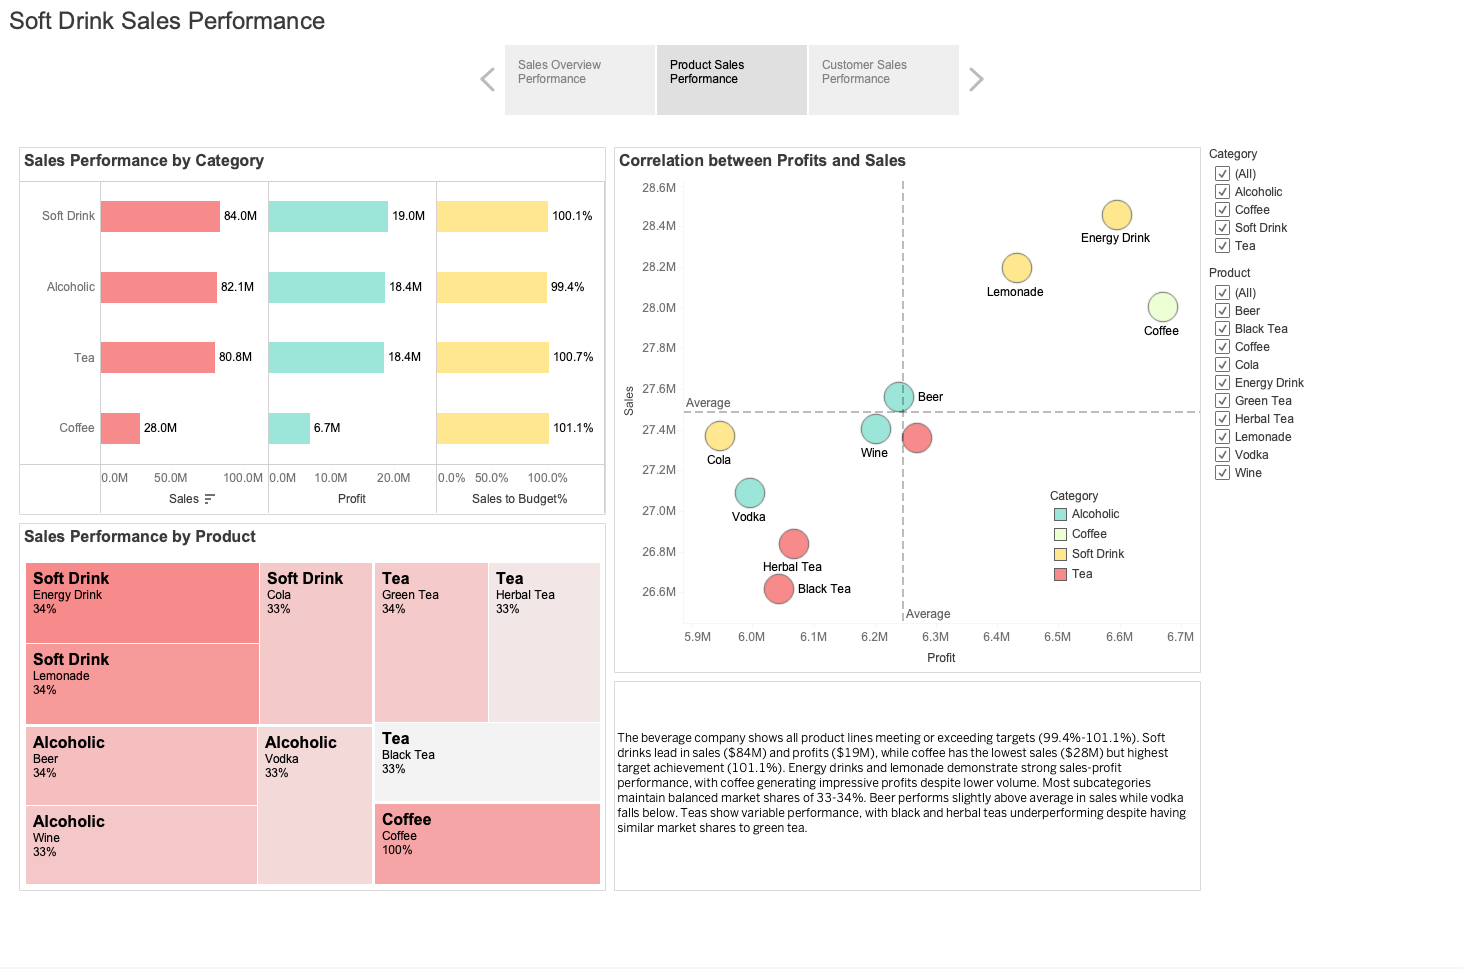

The dashboard page shown, as its layout file describes it:
{"tool":"tableau","page":{"name":"Product Performance","canvas":[1366,768],"ordinal":1},"visuals":[{"type":"worksheet","title":"Sales Performance by Category ","mark":"Automatic","rows":["Category"],"cols":["Sales","Profit","Calculation_711287330117402624"],"box":[8,8,595,376]},{"type":"worksheet","title":"Correlation between Profits and Sales","mark":"Circle","rows":["Sales"],"cols":["Profit"],"box":[603,8,595,534]},{"type":"filter","title":"Sales Performance by Category ","param":"[federated.1dfvxe61fv06j51fise5x0s4x30e].[none:Category:nk]","box":[1198,8,160,171]},{"type":"filter","title":"Sales Performance by Product ","param":"[federated.1dfvxe61fv06j51fise5x0s4x30e].[none:Product:nk]","box":[1198,179,160,333]},{"type":"legend","title":"Correlation between Profits and Sales","param":"[federated.1dfvxe61fv06j51fise5x0s4x30e].[none:Category:nk]","box":[1043,354,140,106]},{"type":"worksheet","title":"Sales Performance by Product ","mark":"Automatic","box":[8,384,595,376]},{"type":"text","box":[603,542,595,218]}]}

Visuals, with their boxes on the page's 1366x768 design canvas (x1, y1, x2, y2). These are canvas units, not pixel positions in the 1463x969 screenshot, which may show the page scaled, cropped or inside an application window:
"Sales Performance by Category " worksheet: region(8, 8, 603, 384)
"Correlation between Profits and Sales" worksheet (Circle marks): region(603, 8, 1198, 542)
"Sales Performance by Category " filter: region(1198, 8, 1358, 179)
"Sales Performance by Product " filter: region(1198, 179, 1358, 512)
"Correlation between Profits and Sales" legend: region(1043, 354, 1183, 460)
"Sales Performance by Product " worksheet: region(8, 384, 603, 760)
text: region(603, 542, 1198, 760)
